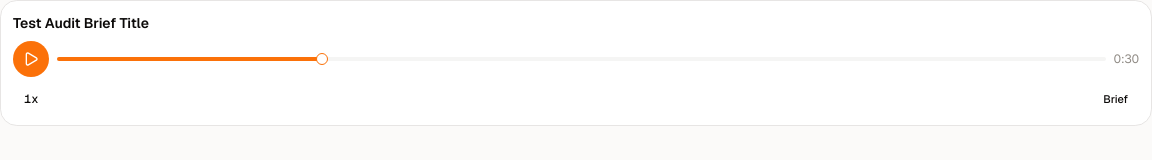
CompactPlayer › cycles speed on click
Click the button named "1x": {"x": 31, "y": 99} x1=13 y1=85 x2=49 y2=113
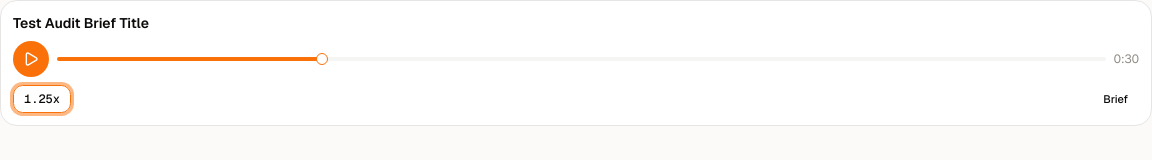
Check: the text "1.25x" is shown, box x1=13 y1=85 x2=71 y2=113
